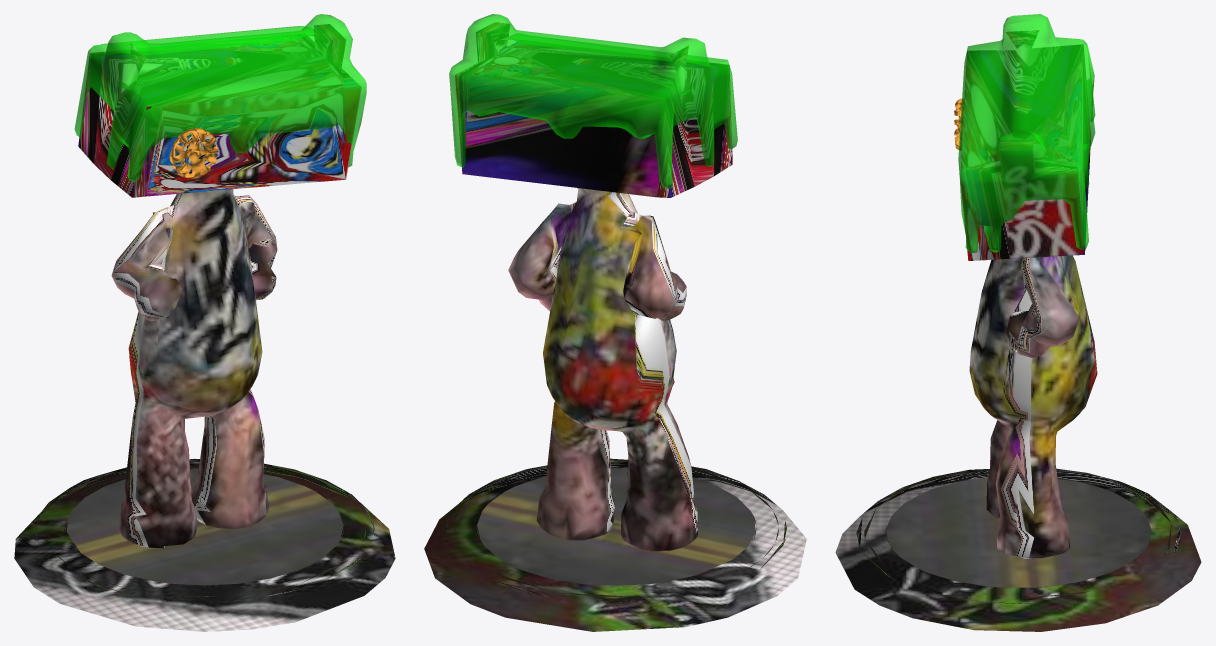
3 renders of one model, left to right at view 1: azimuth 30°, elevation 25°; view 2: azimuth 150°, elevation 25°; view 3: azimuth 270°, elevation 25°, orthographic. The views are drawn at different scales.
Size of the model in its own units: 1.44 by 2.2 by 1.44.
6 materials, 5 textured.
